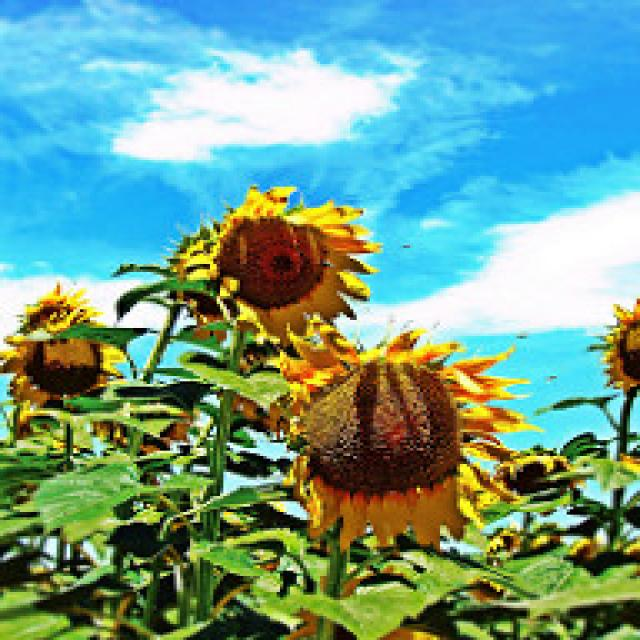sunflower: (269, 329, 520, 544), (200, 185, 366, 344), (0, 284, 124, 412)
